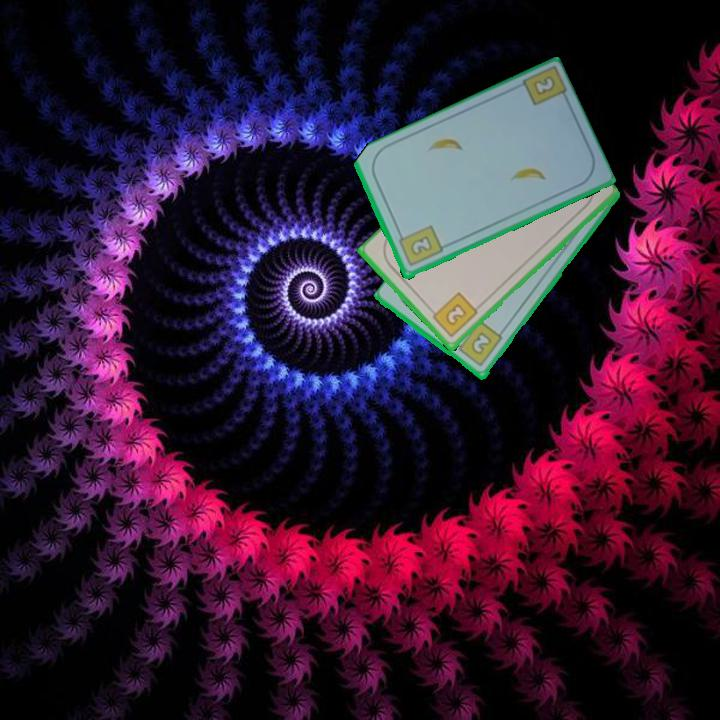2b: (426, 289, 481, 341), (451, 318, 505, 370), (395, 222, 445, 270), (529, 72, 558, 99)
